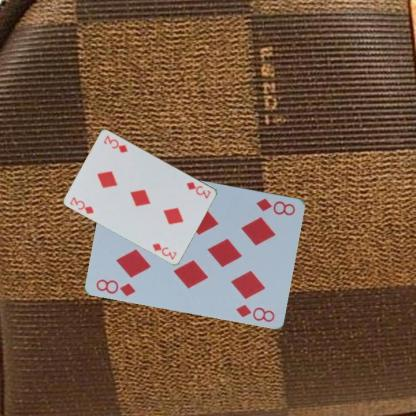3d: (184, 179, 212, 200), (68, 194, 95, 215)
8d: (254, 195, 297, 217), (94, 276, 137, 297)
